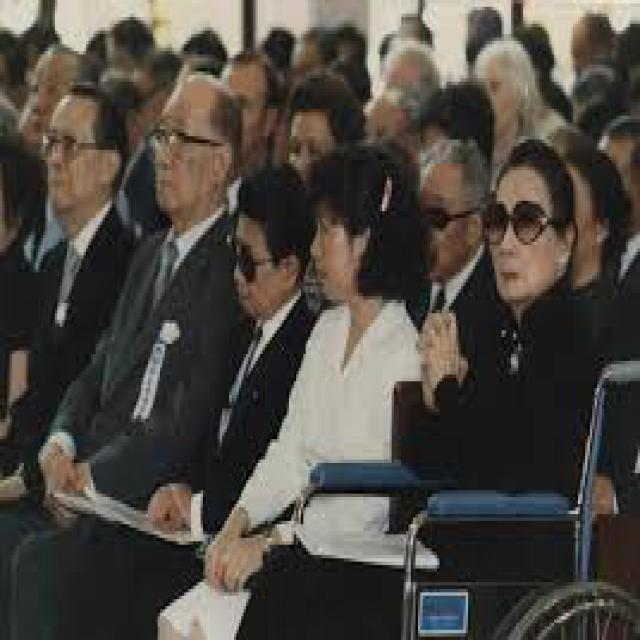wheelchairs: (292, 320, 638, 636)
